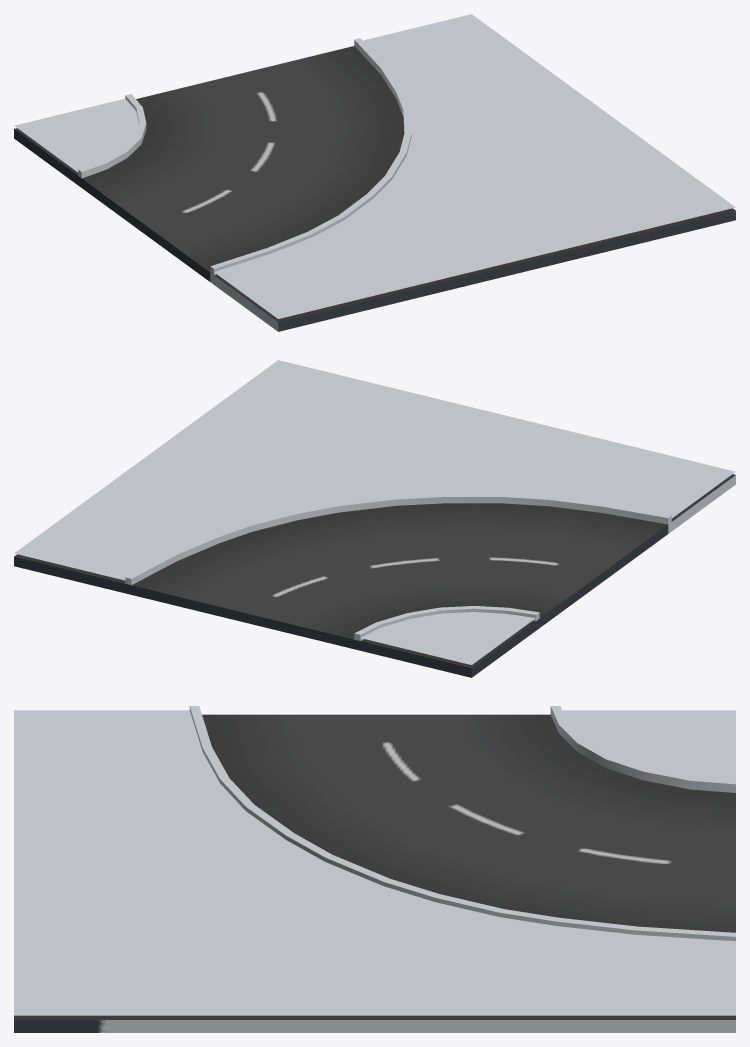
File: road_013_pacote.glb
3 renders of one model, top to bottom at view 1: azimuth 30°, elevation 25°; view 2: azimuth 150°, elevation 25°; view 3: azimuth 270°, elevation 25°, orthographic. The views are drawn at different scales.
Visible parts, largest first — view 1: road_013_pacote; view 2: road_013_pacote; view 3: road_013_pacote.
Boxes of the visible parts, x1,y1,x2,y2 form: road_013_pacote: (14, 14, 735, 331); road_013_pacote: (14, 360, 735, 677); road_013_pacote: (14, 706, 735, 1032).
Size of the model in its own units: 15 by 0.5 by 15.
Materials: 2 (2 with a texture image).
